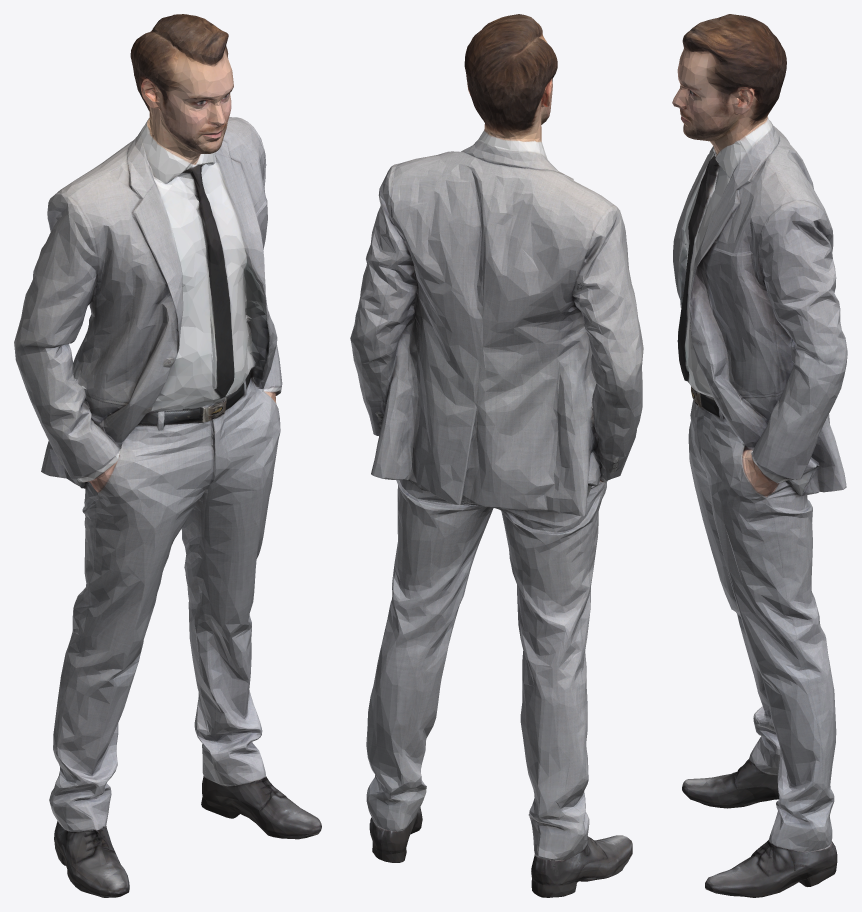
3 renders of one model, left to right at view 1: azimuth 30°, elevation 25°; view 2: azimuth 150°, elevation 25°; view 3: azimuth 270°, elevation 25°, orthographic. The views are drawn at different scales.
Parts seen in each view (by area): view 1: s4studio_mesh_1; view 2: s4studio_mesh_1; view 3: s4studio_mesh_1.
Boxes of the visible parts, x1,y1,x2,y2 form: s4studio_mesh_1: (14, 14, 321, 897); s4studio_mesh_1: (350, 14, 643, 897); s4studio_mesh_1: (672, 14, 847, 897).
Size of what is drawn, in the model's own units: 0.6228 by 1.82 by 0.3502.
Materials: 1 (1 with a texture image).
